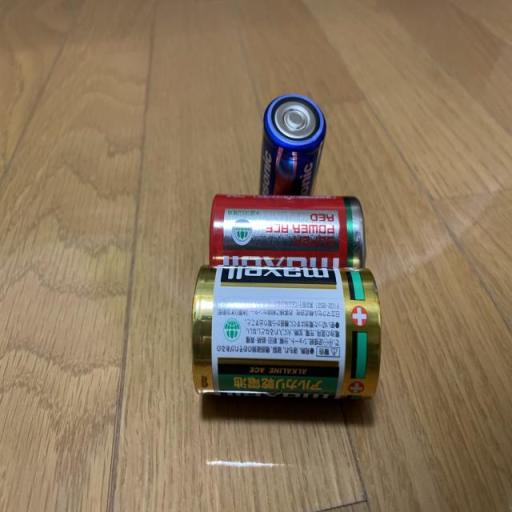battery: (188, 263, 384, 407), (205, 193, 370, 272), (252, 96, 328, 200)
